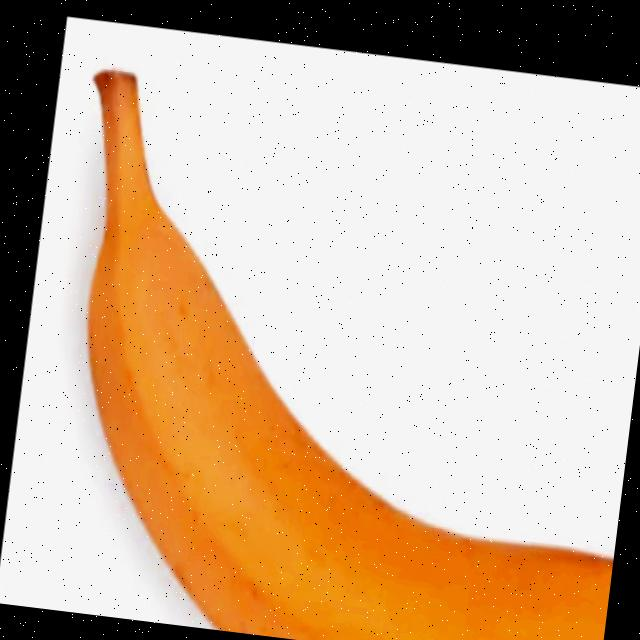Ripe: (21, 45, 640, 640)
